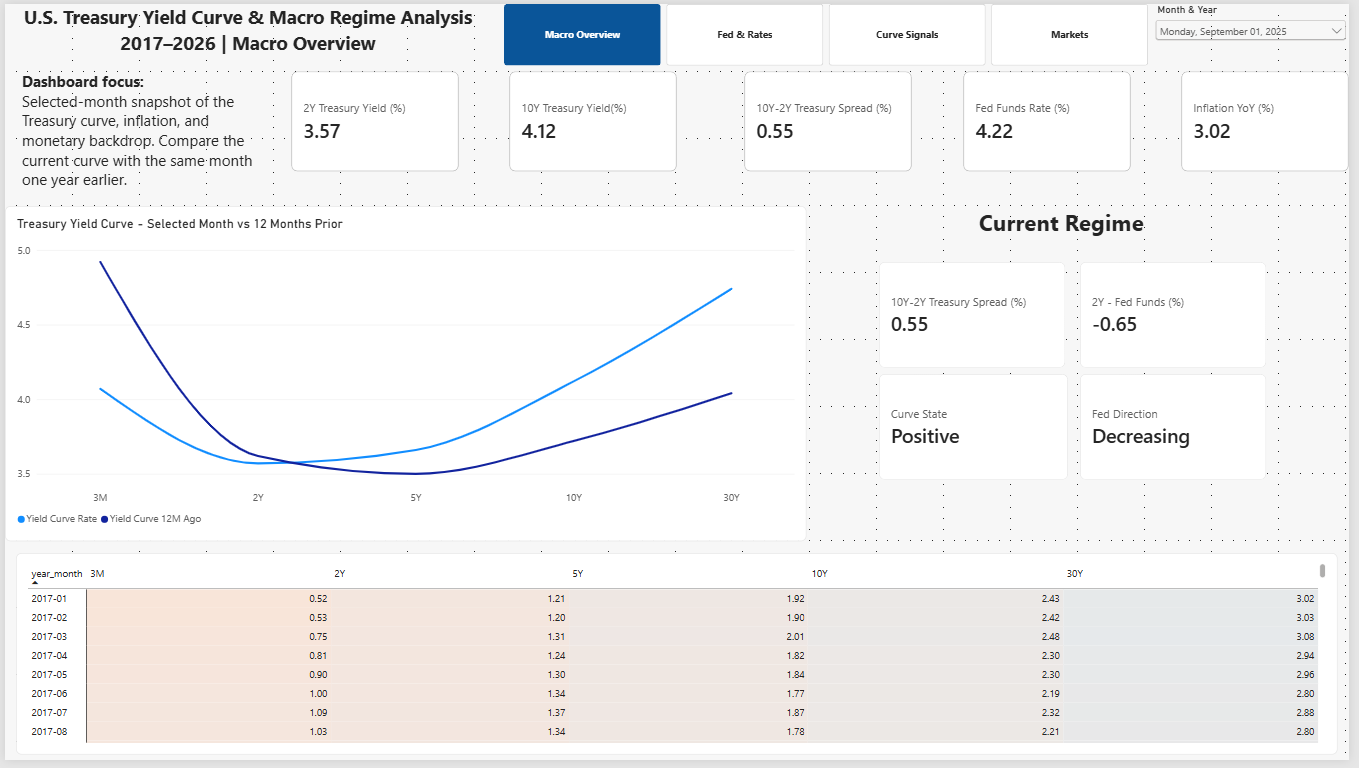

Layout of this report page (visuals, bound fields, positions):
{"tool":"powerbi","page":{"name":"Macro Overview","canvas":[1920,1080],"ordinal":0},"visuals":[{"type":"textbox","box":[13.3,0,668.3,138.3],"z":0},{"type":"pageNavigator","box":[713.3,0,920,88.3],"z":1},{"type":"slicer","fields":{"Values":["analytics dim_month.month_date"]},"box":[1638.3,0,281.7,148.3],"z":2},{"type":"cardVisual","fields":{"Data":["analytics monthly_macro_market.Inflation YoY (pp)"]},"box":[1680,96,240,144],"z":3},{"type":"cardVisual","fields":{"Data":["analytics monthly_macro_market.10Y-2Y Spread"]},"box":[1056,96,240,144],"z":6},{"type":"cardVisual","fields":{"Data":["analytics monthly_macro_market.2Y Yield"]},"box":[408,96,240,144],"z":7},{"type":"lineChart","title":"Treasury Yield Curve - Selected Month vs 12 Months Prior","fields":{"Category":["analytics yield_curve_long.maturity"],"Y":["analytics yield_curve_long.Yield Curve Rate","analytics dim_month.Yield Curve 12M Ago"]},"box":[0,288,1144.9,478.9],"z":8},{"type":"cardVisual","fields":{"Data":["analytics monthly_macro_market.Curve State"]},"box":[1248,528,271,151.2],"z":9},{"type":"cardVisual","fields":{"Data":["analytics monthly_macro_market.Fed Direction"]},"box":[1536,528,266.8,151.2],"z":10},{"type":"cardVisual","fields":{"Data":["analytics monthly_macro_market.10Y-2Y Spread"]},"box":[1248,368,266.8,151.2],"z":11},{"type":"cardVisual","fields":{"Data":["analytics monthly_macro_market.2Y - Fed Funds"]},"box":[1536,368,266.8,151.2],"z":12},{"type":"textbox","box":[1392,288,272,48],"z":13},{"type":"pivotTable","fields":{"Columns":["analytics yield_curve_long.maturity"],"Rows":["analytics dim_month.year_month"],"Values":["analytics yield_curve_long.Yield Curve Rate"]},"box":[16,784,1888,288],"z":14},{"type":"cardVisual","fields":{"Data":["analytics monthly_macro_market.10Y Yield"]},"box":[720,96,240,144],"z":15},{"type":"cardVisual","fields":{"Data":["analytics monthly_macro_market.Fed Funds"]},"box":[1368,96,240,144],"z":17},{"type":"textbox","box":[24,96,360,168],"z":18}]}

Visuals, with their boxes in screenshot pixels (x1, y1, x2, y2), scaled from the page's 1920x1080 canvas onto the 1359x768 screenshot:
textbox: (9,0,482,98)
pageNavigator: (505,0,1156,63)
slicer - analytics dim_month.month_date: (1160,0,1358,105)
cardVisual - analytics monthly_macro_market.Inflation YoY (pp): (1189,68,1358,171)
cardVisual - analytics monthly_macro_market.10Y-2Y Spread: (747,68,917,171)
cardVisual - analytics monthly_macro_market.2Y Yield: (289,68,459,171)
"Treasury Yield Curve - Selected Month vs 12 Months Prior" lineChart: (0,205,810,545)
cardVisual - analytics monthly_macro_market.Curve State: (883,375,1075,483)
cardVisual - analytics monthly_macro_market.Fed Direction: (1087,375,1276,483)
cardVisual - analytics monthly_macro_market.10Y-2Y Spread: (883,262,1072,369)
cardVisual - analytics monthly_macro_market.2Y - Fed Funds: (1087,262,1276,369)
textbox: (985,205,1178,239)
pivotTable - analytics yield_curve_long.maturity x analytics dim_month.year_month: (11,558,1348,762)
cardVisual - analytics monthly_macro_market.10Y Yield: (510,68,680,171)
cardVisual - analytics monthly_macro_market.Fed Funds: (968,68,1138,171)
textbox: (17,68,272,188)
